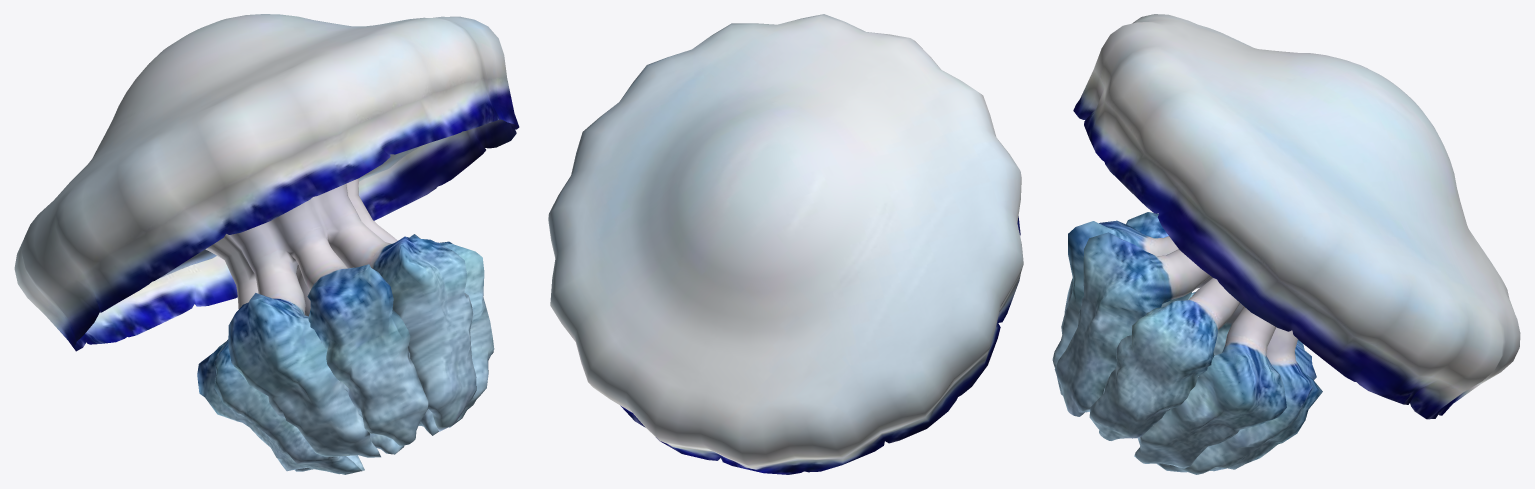
Rendered from Medusa.glb.
3 views of the same model, side by side, from view 1: azimuth 30°, elevation 25°; view 2: azimuth 150°, elevation 25°; view 3: azimuth 270°, elevation 25° (orthographic). The views are drawn at different scales.
Parts seen in each view (by area): view 1: MorphMainGroup; view 2: MorphMainGroup; view 3: MorphMainGroup.
Part boxes in pixels (x1,y1,x2,y2): MorphMainGroup: [14, 14, 519, 474]; MorphMainGroup: [548, 14, 1023, 474]; MorphMainGroup: [1052, 14, 1520, 474].
Bounding box in the file's own units: 0.6544 × 0.596 × 0.6014.
Materials: 1 (1 with a texture image).
